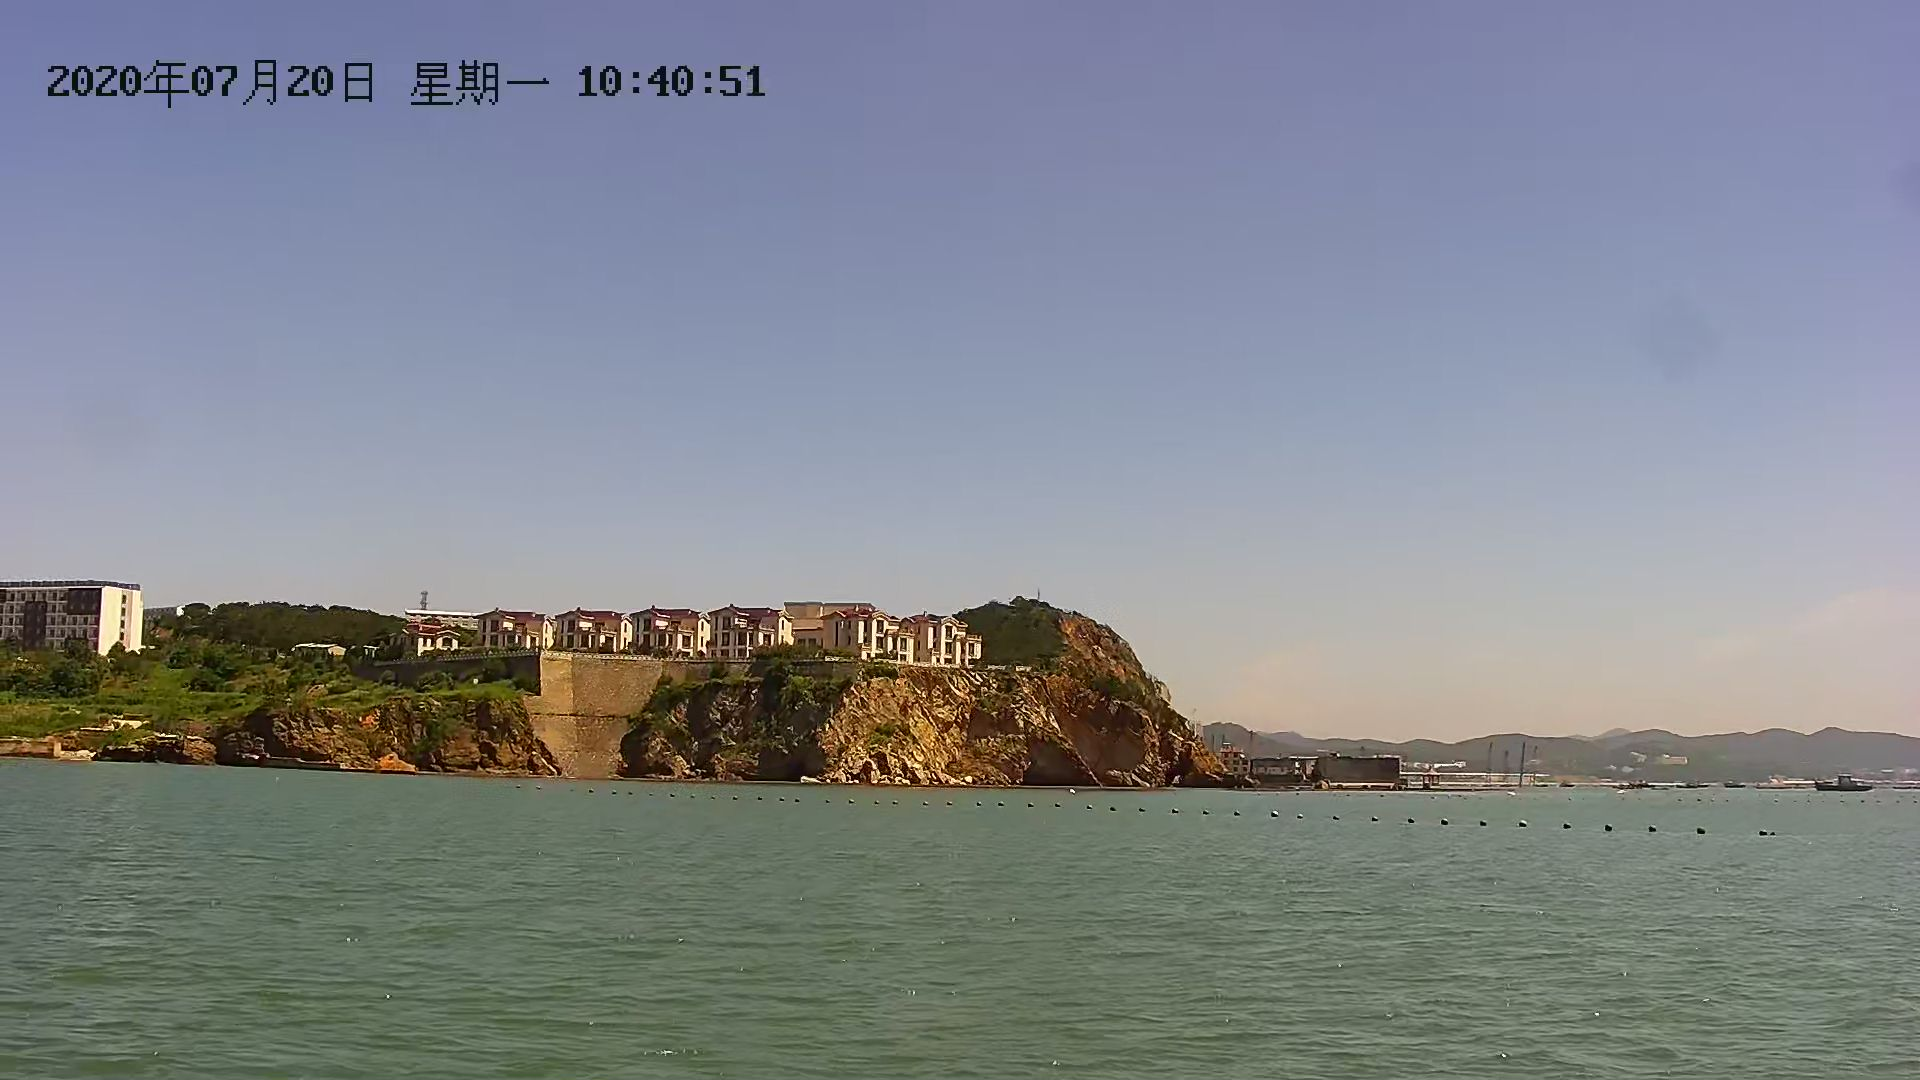ship: (1812, 767, 1876, 796)
